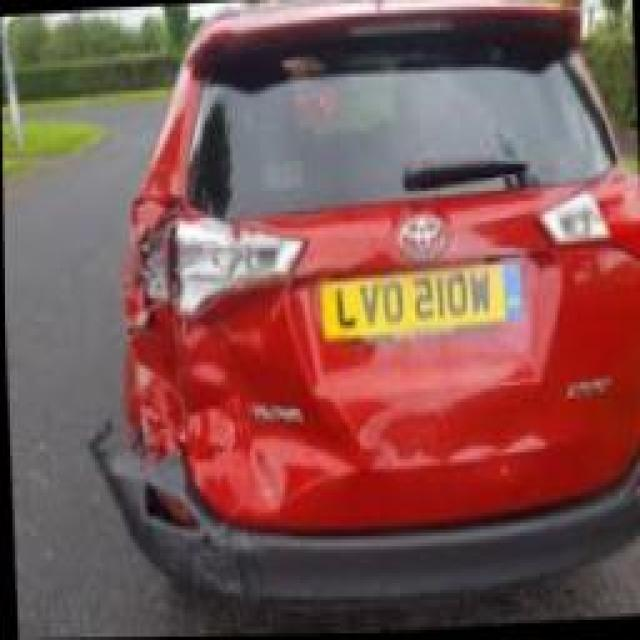replaceable: (122, 315, 339, 561), (111, 153, 298, 297)
